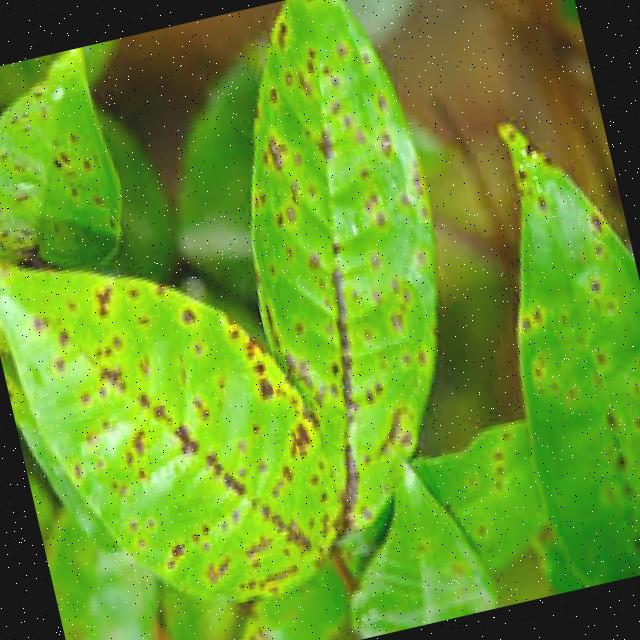leaf spot: (0, 229, 349, 640), (452, 100, 640, 593), (0, 57, 138, 288)
